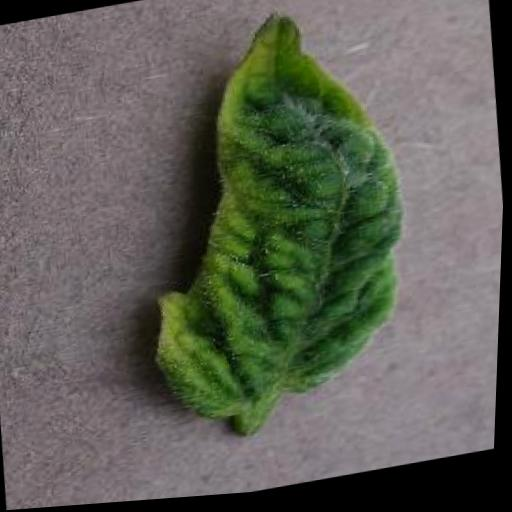Yellow Leaf Curl Virus: (124, 0, 427, 439)
